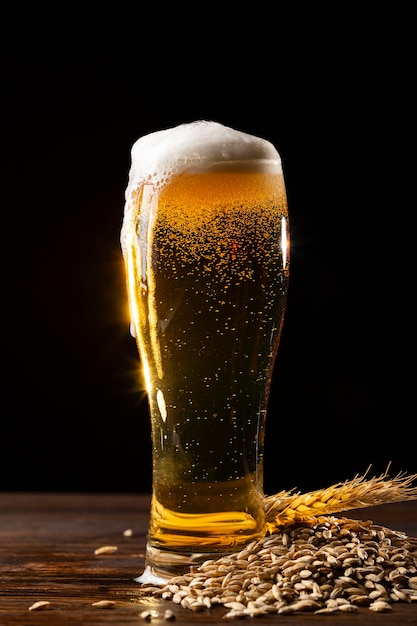alcohol: (124, 115, 294, 585)
